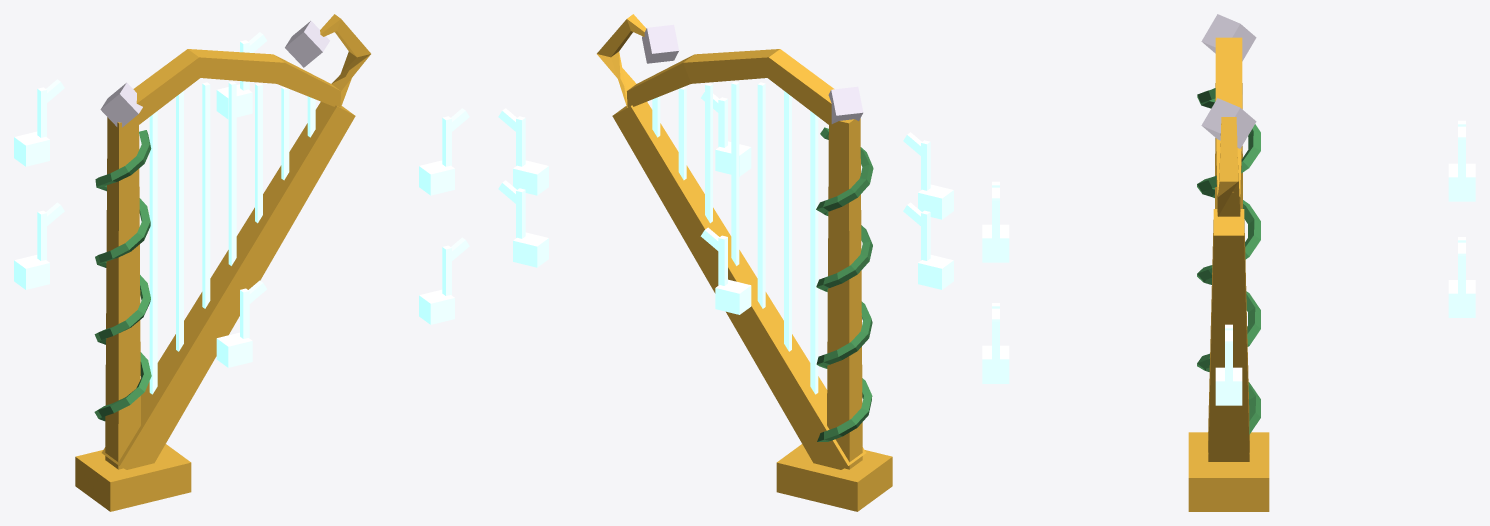
3 renders of one model, left to right at view 1: azimuth 30°, elevation 25°; view 2: azimuth 150°, elevation 25°; view 3: azimuth 270°, elevation 25°, orthographic. The views are drawn at different scales.
Parts seen in each view (by area): view 1: R025_Main, R025_Glow, R025_Aura_Notes, R025_Accent, R025_Gem; view 2: R025_Main, R025_Glow, R025_Aura_Notes, R025_Accent, R025_Gem; view 3: R025_Main, R025_Aura_Notes, R025_Accent, R025_Gem.
Boxes of the visible parts, x1,y1,x2,y2 form: R025_Main: (75,14,370,511); R025_Glow: (149,81,315,394); R025_Aura_Notes: (14,32,469,367); R025_Accent: (94,130,151,421); R025_Gem: (100,21,329,127); R025_Main: (597,14,892,511); R025_Glow: (652,81,818,394); R025_Aura_Notes: (498,92,953,314); R025_Accent: (816,127,873,441); R025_Gem: (642,24,863,123); R025_Main: (1188,37,1269,511); R025_Aura_Notes: (982,120,1475,405); R025_Accent: (1197,88,1260,434); R025_Gem: (1201,14,1256,148).
Bounding box in the file's own units: 2.21 × 2 × 1.83.
